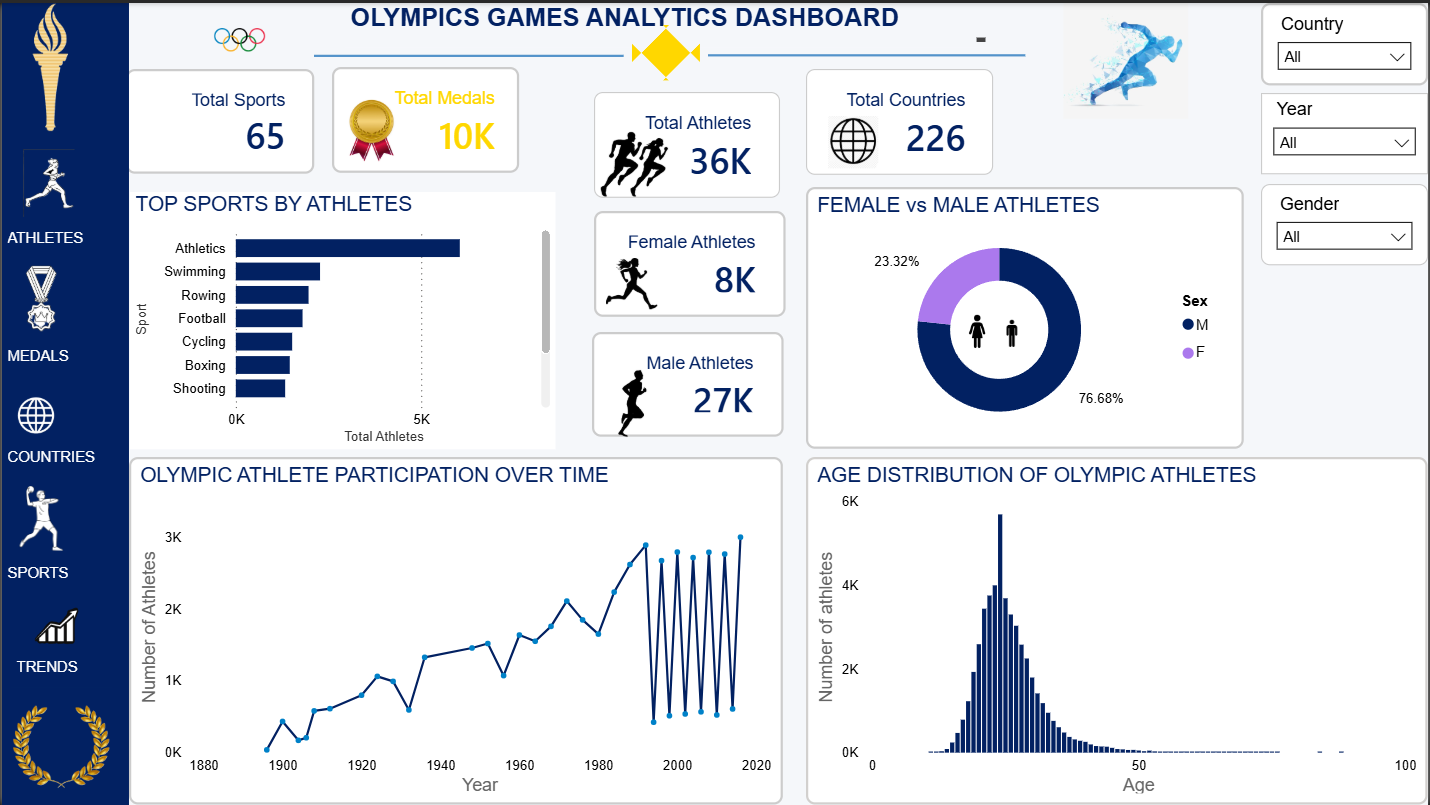

What the dashboard file says about the page in this screenshot:
{"tool":"powerbi","page":{"name":"ATHLETE ANALYSIS","canvas":[1280,720],"ordinal":0},"visuals":[{"type":"cardVisual","fields":{"Data":["Measuress.Total Athletes"]},"box":[531.5,79.6,167,95.3],"z":0},{"type":"cardVisual","fields":{"Data":["Measuress.Participating Countries"]},"box":[721.7,59.3,168.3,95.3],"z":1000},{"type":"lineChart","title":"OLYMPIC ATHLETE PARTICIPATION OVER TIME","fields":{"Category":["olympics_cleaned.Year"],"Y":["Measuress.Total Athletes"]},"box":[114,407.6,587.1,312.4],"z":2000},{"type":"clusteredColumnChart","title":"AGE DISTRIBUTION OF OLYMPIC ATHLETES","fields":{"Category":["olympics_cleaned.Age"],"Y":["Measuress.Total Athletes"]},"box":[721.8,407.6,558.4,312.4],"z":3000},{"type":"donutChart","title":"FEMALE vs MALE ATHLETES","fields":{"Category":["olympics_cleaned.Sex"],"Y":["Measuress.Total Athletes"]},"box":[721.7,165.3,392.9,235.4],"z":4000},{"type":"slicer","title":"Country","fields":{"Values":["olympics_cleaned.NOC"]},"box":[1130.3,0,149.9,73.6],"z":5000},{"type":"cardVisual","fields":{"Data":["Measuress.Total Sports"]},"box":[110.9,59.3,169.2,94.3],"z":6000},{"type":"cardVisual","fields":{"Data":["Measuress.Total Medals"]},"box":[296.7,57.4,168.3,95.3],"z":7000},{"type":"cardVisual","fields":{"Data":["Measuress.Female Athletes"]},"box":[531.5,186.6,171.9,95.3],"z":8000},{"type":"cardVisual","fields":{"Data":["Measuress.Male Athletes"]},"box":[529.5,295.7,171.9,94.3],"z":9000},{"type":"textbox","title":"OLYMPICS GAMES ANALYTICS DASHBOARD","box":[307.9,0,580,39.5],"z":10000},{"type":"image","box":[129.4,0,168.3,66.1],"z":11000},{"type":"textbox","box":[0,0,114,720],"z":12000},{"type":"slicer","fields":{"Values":["olympics_cleaned.Year"]},"box":[1130.3,80.8,150,73],"z":13000},{"type":"slicer","fields":{"Values":["olympics_cleaned.Sex"]},"box":[1130.3,162.5,149.9,72.7],"z":14000},{"type":"image","box":[887.9,0,242.4,104.1],"z":15000},{"type":"image","box":[0,0,88,114.9],"z":16000},{"type":"image","box":[3.9,623.5,99.2,88.5],"z":17000},{"type":"image","box":[296.7,86.6,72,61.3],"z":18000},{"type":"clusteredBarChart","title":"TOP SPORTS BY ATHLETES","fields":{"Category":["olympics_cleaned.Sport"],"Y":["Measuress.Total Athletes"]},"box":[114.8,169.2,382.2,231.5],"z":19000},{"type":"image","box":[731.4,101.2,65.2,46.7],"z":22000},{"type":"image","box":[0,513.6,97.3,85.6],"z":23000},{"type":"image","box":[0,226.6,71,77.8],"z":24000},{"type":"textbox","box":[0,304.4,99.2,34],"z":25000},{"type":"textbox","box":[7.8,583.6,91.4,31.1],"z":26000},{"type":"image","box":[7.8,131.3,67.1,61.3],"z":27000},{"type":"image","box":[0,344.3,61.3,50.6],"z":28000},{"type":"image","box":[1.9,433.8,67.1,58.4],"z":29000},{"type":"textbox","box":[0,198.4,87.5,28.2],"z":30000},{"type":"textbox","box":[0,394.9,99.2,26.3],"z":31000},{"type":"textbox","box":[0,499,110.9,25.3],"z":32000},{"type":"image","box":[856.6,275.1,38.3,40.3],"z":33000},{"type":"image","box":[876.3,272.1,60.9,46.2],"z":34000},{"type":"shape","box":[280,6.9,278,80.6],"z":35000},{"type":"shape","box":[633.6,6.9,284.9,79.6],"z":36000},{"type":"shape","box":[565.8,19.6,61,50],"z":37000},{"type":"image","box":[533.4,114,69.7,60.9],"z":38000},{"type":"image","box":[533.4,228.9,63.9,46.2],"z":38500},{"type":"image","box":[531.5,328.1,70.7,61.9],"z":39000}]}

Visuals, with their boxes in screenshot pixels (x1, y1, x2, y2), scaled from the page's 1280x720 canvas onto the 1430x805 screenshot:
cardVisual - Measuress.Total Athletes: <bbox>594, 89, 780, 196</bbox>
cardVisual - Measuress.Participating Countries: <bbox>806, 66, 994, 173</bbox>
"OLYMPIC ATHLETE PARTICIPATION OVER TIME" lineChart: <bbox>127, 456, 783, 804</bbox>
"AGE DISTRIBUTION OF OLYMPIC ATHLETES" clusteredColumnChart: <bbox>806, 456, 1429, 804</bbox>
"FEMALE vs MALE ATHLETES" donutChart: <bbox>806, 185, 1245, 448</bbox>
"Country" slicer: <bbox>1263, 0, 1429, 82</bbox>
cardVisual - Measuress.Total Sports: <bbox>124, 66, 313, 172</bbox>
cardVisual - Measuress.Total Medals: <bbox>331, 64, 519, 171</bbox>
cardVisual - Measuress.Female Athletes: <bbox>594, 209, 786, 315</bbox>
cardVisual - Measuress.Male Athletes: <bbox>592, 331, 784, 436</bbox>
"OLYMPICS GAMES ANALYTICS DASHBOARD" textbox: <bbox>344, 0, 992, 44</bbox>
image: <bbox>145, 0, 333, 74</bbox>
textbox: <bbox>0, 0, 127, 804</bbox>
slicer - olympics_cleaned.Year: <bbox>1263, 90, 1429, 172</bbox>
slicer - olympics_cleaned.Sex: <bbox>1263, 182, 1429, 263</bbox>
image: <bbox>992, 0, 1263, 116</bbox>
image: <bbox>0, 0, 98, 128</bbox>
image: <bbox>4, 697, 115, 796</bbox>
image: <bbox>331, 97, 412, 165</bbox>
"TOP SPORTS BY ATHLETES" clusteredBarChart: <bbox>128, 189, 555, 448</bbox>
image: <bbox>817, 113, 890, 165</bbox>
image: <bbox>0, 574, 109, 670</bbox>
image: <bbox>0, 253, 79, 340</bbox>
textbox: <bbox>0, 340, 111, 378</bbox>
textbox: <bbox>9, 652, 111, 687</bbox>
image: <bbox>9, 147, 84, 215</bbox>
image: <bbox>0, 385, 68, 442</bbox>
image: <bbox>2, 485, 77, 550</bbox>
textbox: <bbox>0, 222, 98, 253</bbox>
textbox: <bbox>0, 442, 111, 471</bbox>
textbox: <bbox>0, 558, 124, 586</bbox>
image: <bbox>957, 308, 1000, 353</bbox>
image: <bbox>979, 304, 1047, 356</bbox>
shape: <bbox>313, 8, 623, 98</bbox>
shape: <bbox>708, 8, 1026, 97</bbox>
shape: <bbox>632, 22, 700, 78</bbox>
image: <bbox>596, 127, 674, 196</bbox>
image: <bbox>596, 256, 667, 308</bbox>
image: <bbox>594, 367, 673, 436</bbox>
